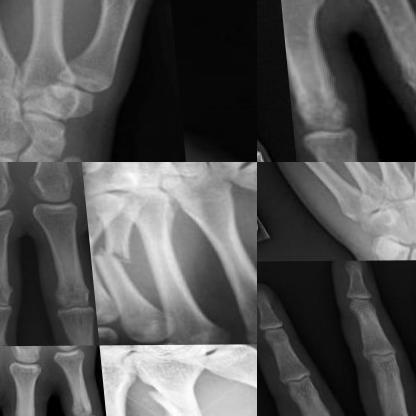fracture: (91, 239, 134, 276), (149, 405, 216, 415), (86, 222, 98, 258)
